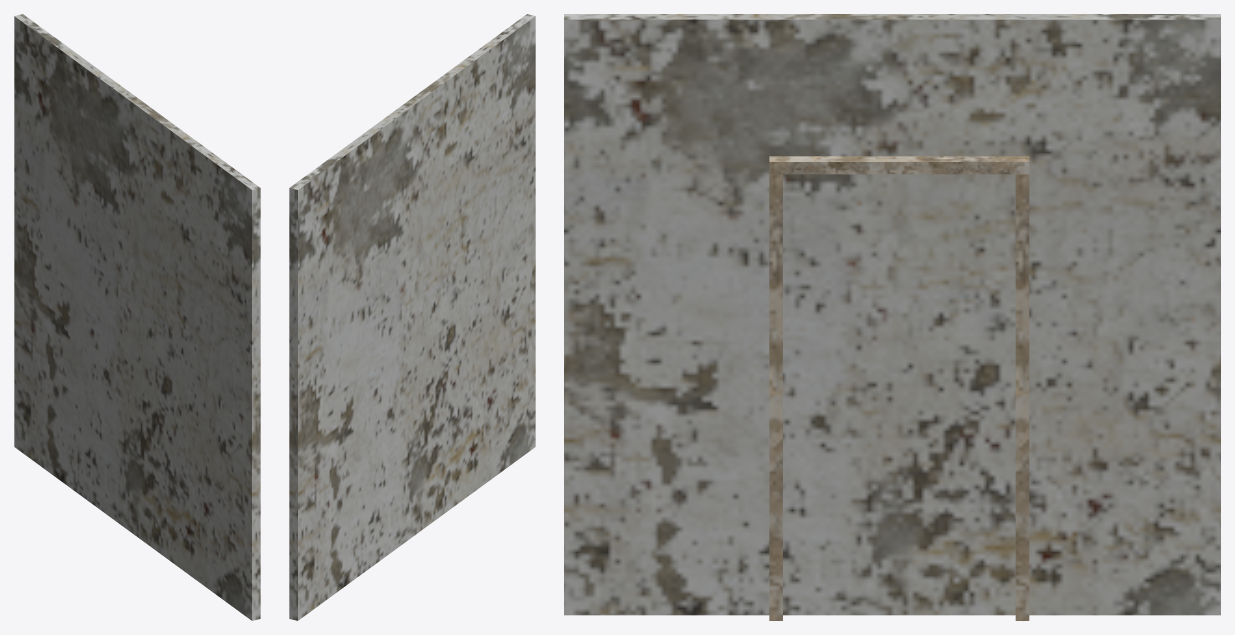
Rendered from CrackedWallInside.fbx.
The picture shows the model from 3 angles, left to right: view 1: azimuth 30°, elevation 25°; view 2: azimuth 150°, elevation 25°; view 3: azimuth 270°, elevation 25°; orthographic projection. The views are drawn at different scales.
Visible parts, largest first — view 1: cube; view 2: cube; view 3: cube, cube_3, cube_2, cube_1.
Boxes of the visible parts, bbox=[...] form: cube: bbox=[14, 14, 260, 620]; cube: bbox=[289, 14, 535, 620]; cube: bbox=[564, 14, 1220, 615]; cube_3: bbox=[1015, 174, 1029, 620]; cube_2: bbox=[769, 174, 782, 620]; cube_1: bbox=[769, 156, 1029, 174].
Size of the model in its own units: 12.5 by 300 by 300.
